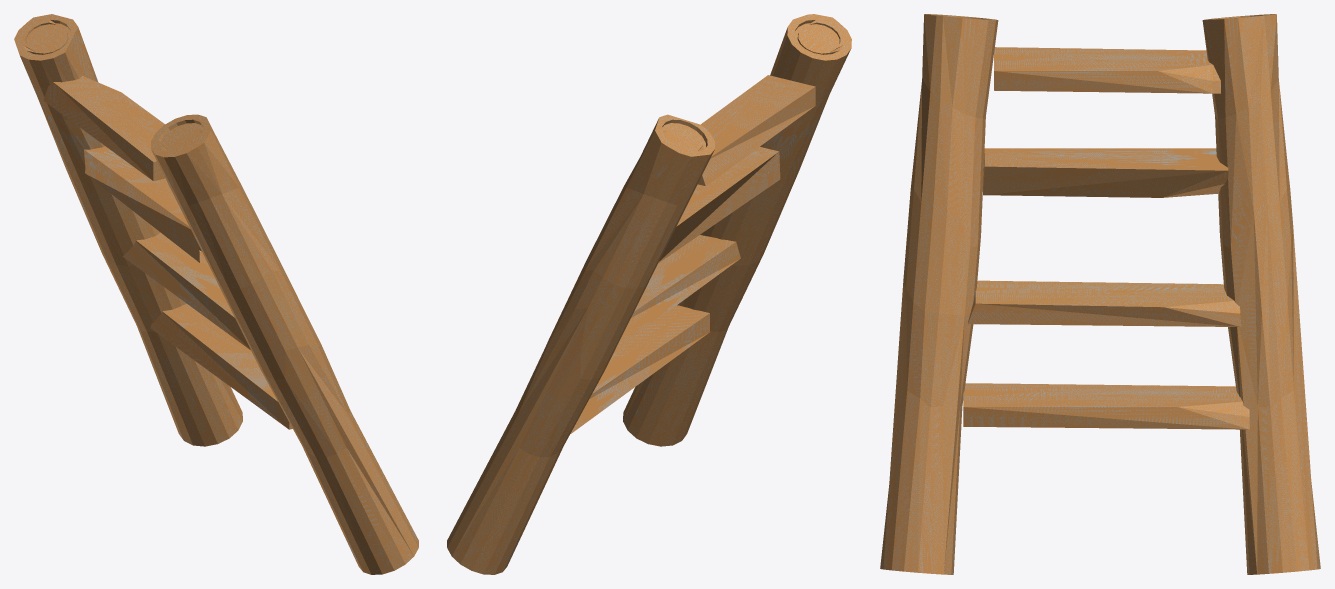
The model's file is Stairs.fbx.
The picture shows the model from 3 angles, left to right: view 1: azimuth 30°, elevation 25°; view 2: azimuth 150°, elevation 25°; view 3: azimuth 270°, elevation 25°; orthographic projection. The views are drawn at different scales.
Parts seen in each view (by area): view 1: Group6, Group1, Group3, Group4, Group2, Group5; view 2: Group1, Group6, Group3, Group4, Group2, Group5; view 3: Group6, Group1, Group4, Group5, Group2, Group3.
Part boxes in pixels (<box>): Group6: <box>151,114,418,574</box>; Group1: <box>14,14,242,446</box>; Group3: <box>43,75,164,181</box>; Group4: <box>150,304,292,429</box>; Group2: <box>122,232,250,350</box>; Group5: <box>84,146,201,262</box>; Group1: <box>447,114,714,574</box>; Group6: <box>623,14,851,446</box>; Group3: <box>698,75,815,186</box>; Group4: <box>570,305,709,433</box>; Group2: <box>615,235,740,350</box>; Group5: <box>658,147,780,263</box>; Group6: <box>880,14,998,574</box>; Group1: <box>1202,14,1320,574</box>; Group4: <box>963,383,1249,429</box>; Group5: <box>983,148,1228,197</box>; Group2: <box>968,280,1241,326</box>; Group3: <box>994,47,1220,93</box>.
Size of the model in its own units: 652 by 1229 by 1011.
